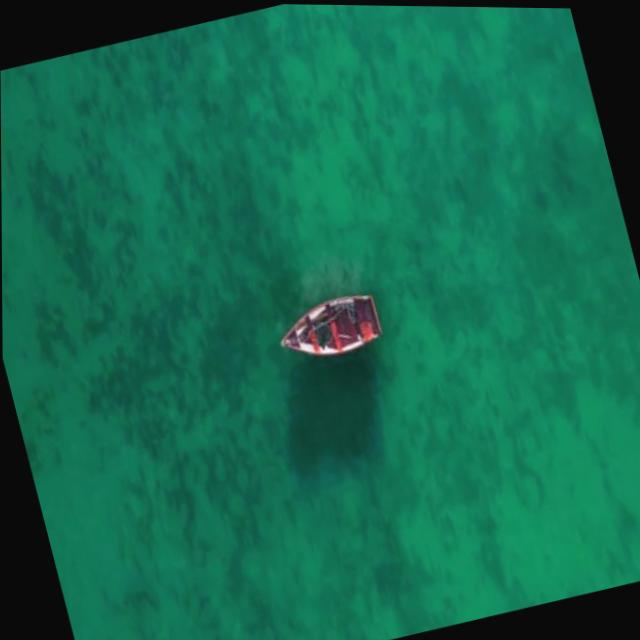ship2: (280, 294, 382, 357)
